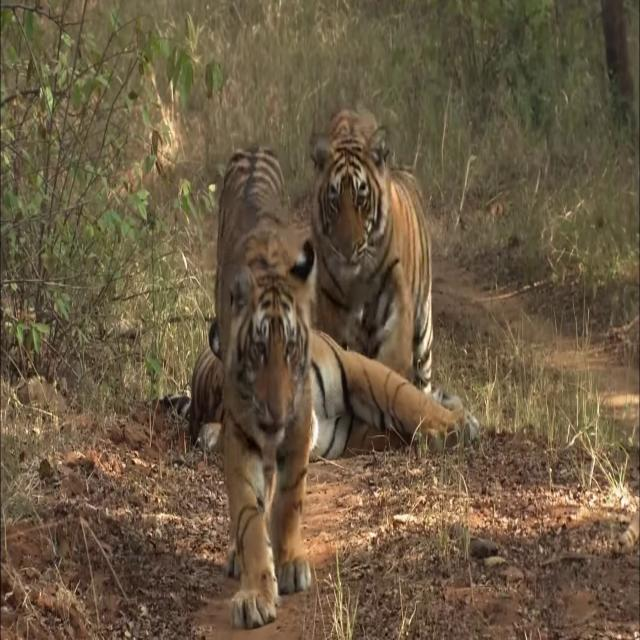tiger: (213, 148, 319, 633), (309, 102, 435, 396)
